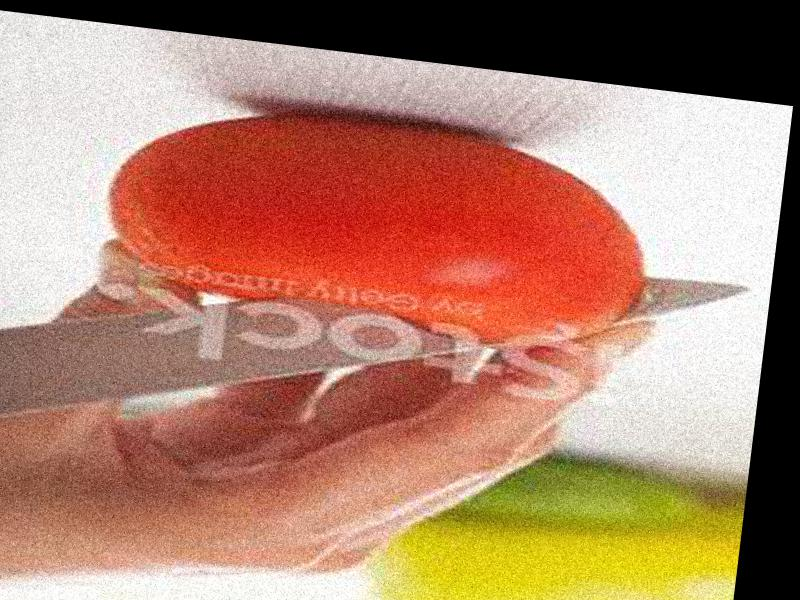Tomato: (91, 85, 659, 358)
